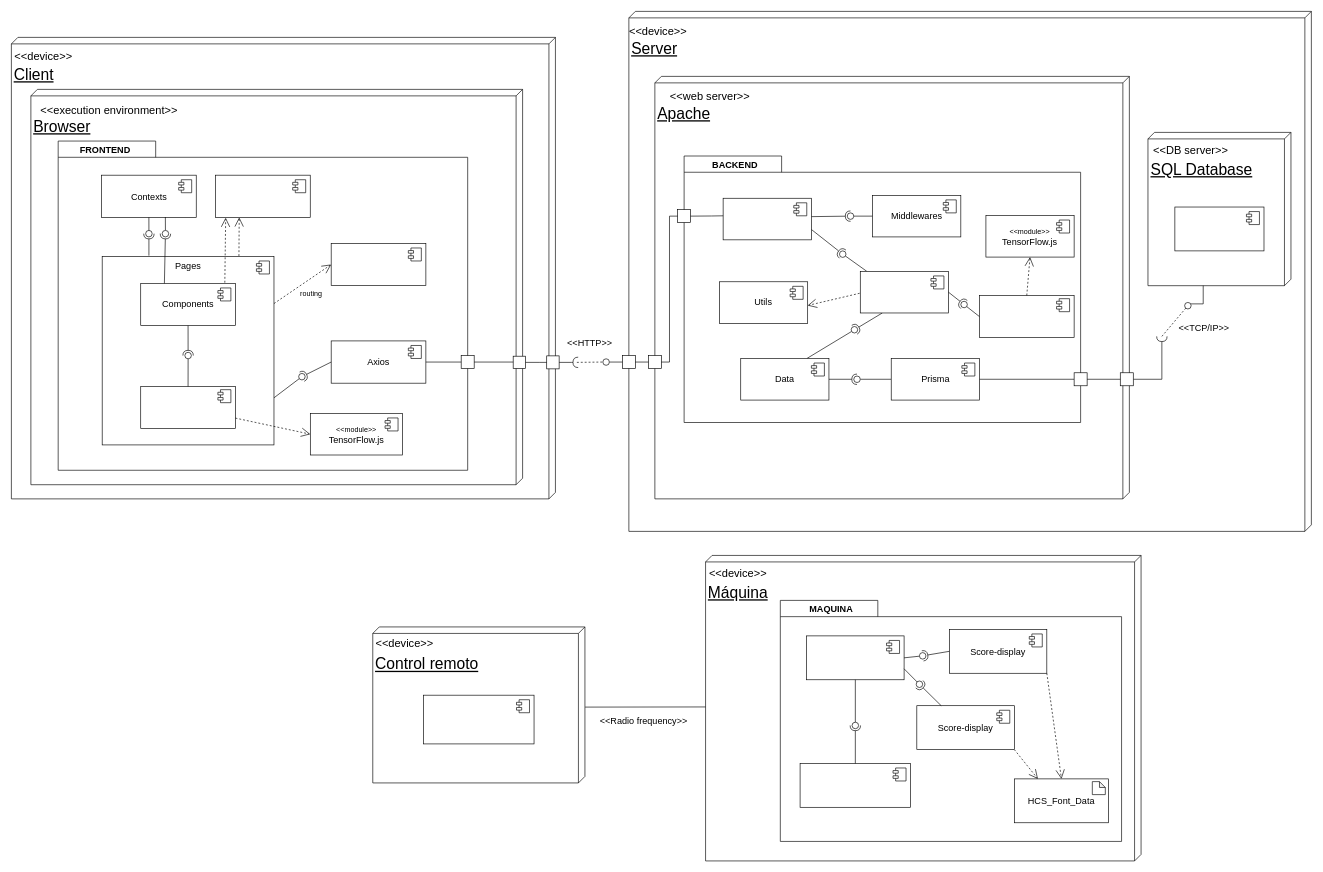
This 1323x872 diagram has some shape labels left out. The centre of each missing label's shape, as x and y in pixels:
Controllers: the point at 904,292
Hooks: the point at 262,196
LEDs-Time- Period-display: the point at 855,785
Logic-Control: the point at 855,657
Pose-Analysis-AI: the point at 1026,316
Pose-Detection-AI: the point at 187,407
PostgreSQL: the point at 1219,228
Remote transmitter: the point at 478,719
Router: the point at 378,264
Routes: the point at 766,219
